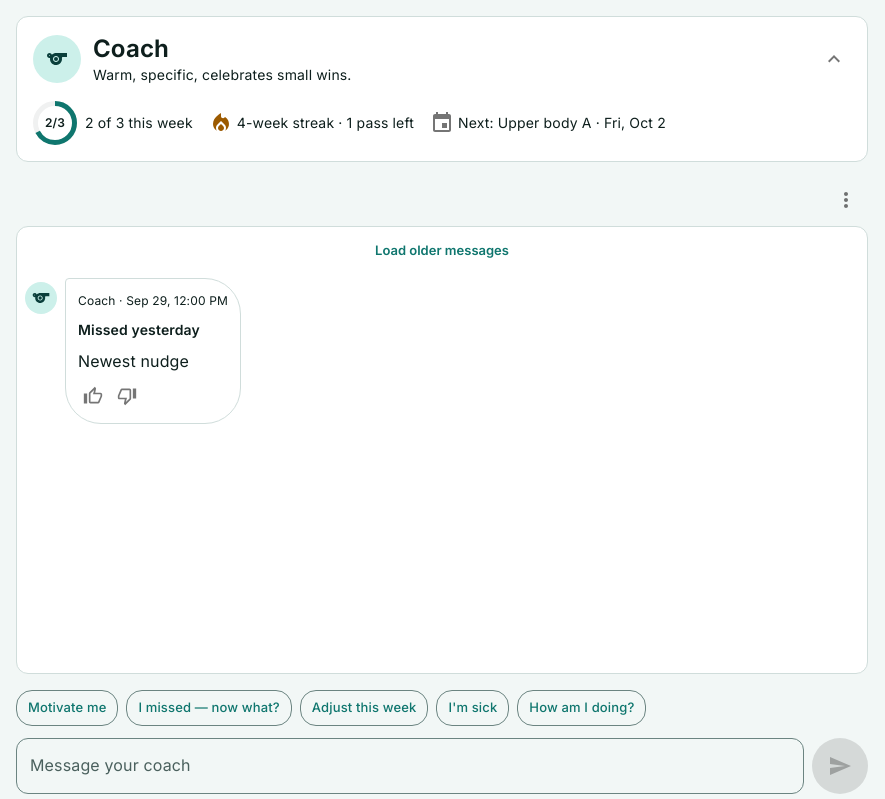
CoachPage › timeline › keeps loaded messages when an older page fails, with a retry
Click the button "Load older messages".
click(442, 250)  # box [357,235,527,266]
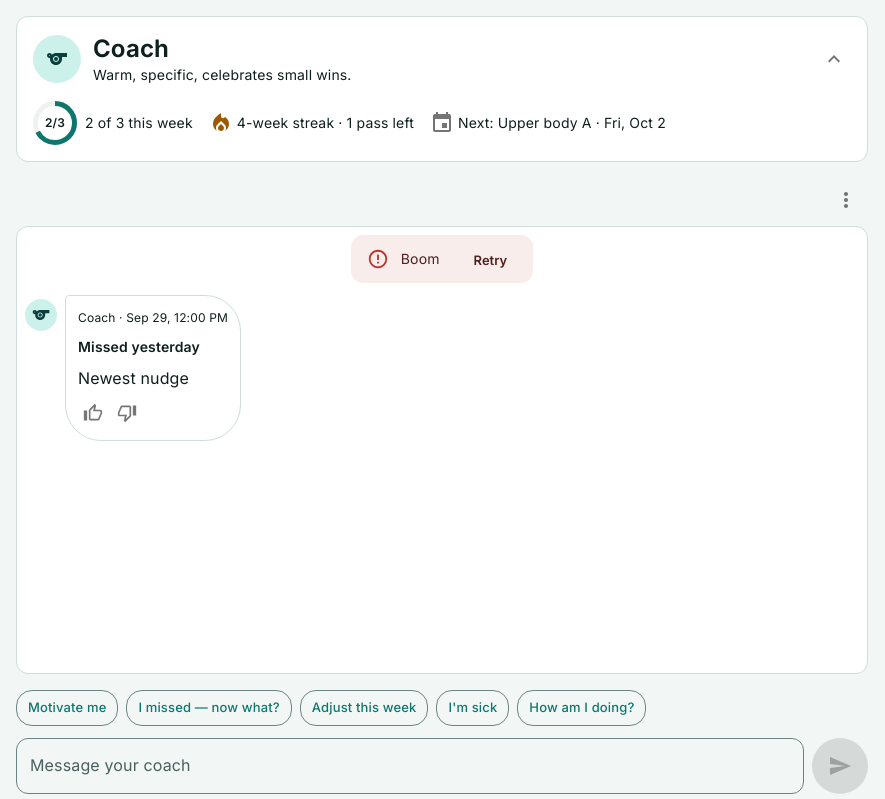
Expected: the text "Newest nudge" is shown, [78,368,189,388]
Expected: the button "Retry" is shown, [456,245,525,276]
